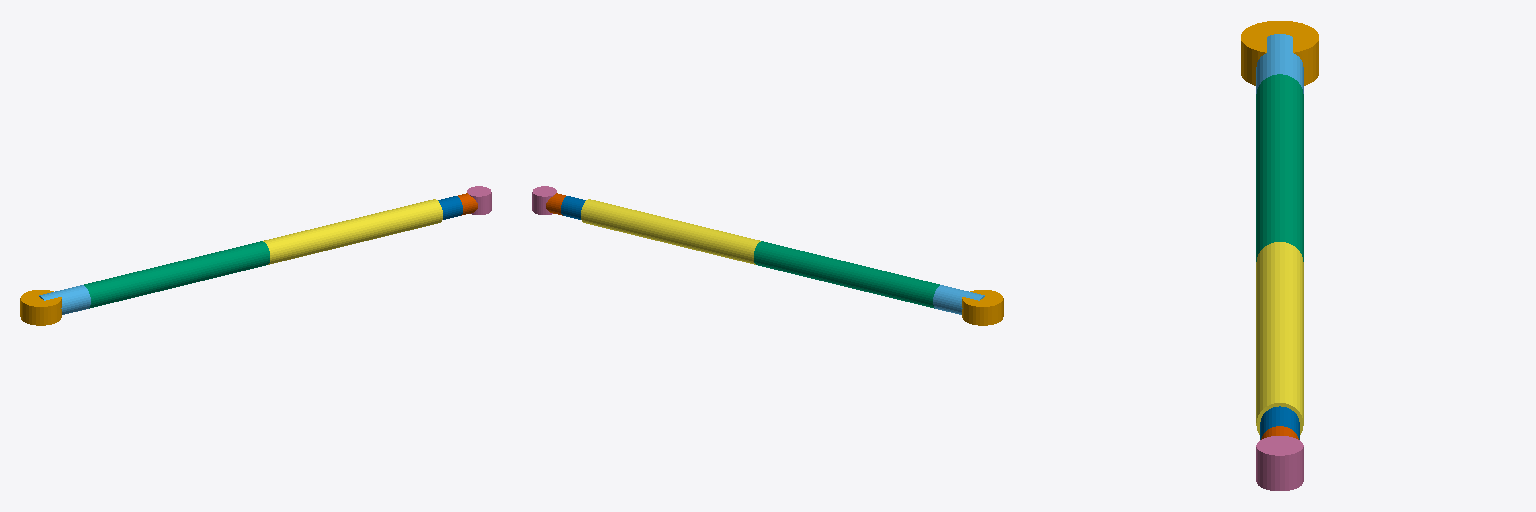
The robot description file, URDF, robot "simple_arm":
<?xml version="1.0"?>
<robot name="simple_arm">

  <!-- BASE Mount (Static) -->
  <link name="BASE">
    <visual>
      <origin xyz="0 0 0" rpy="0 0 0"/>
      <geometry>
        <cylinder length="0.05" radius="0.05"/>
      </geometry>
    </visual>
  </link>

  <!-- JOINT 0: YAW -->
  <joint name="rev_j0" type="revolute">
    <parent link="BASE"/>
    <child link="LOWER"/>
    <origin xyz="0 0 0" rpy="0 0 0"/>
    <axis xyz="0 0 1"/>
    <limit lower="-3.14" upper="3.14" effort="10" velocity="5"/>
  </joint>

  <!-- LINK 1 -->
  <link name="LOWER">
    <visual>
      <origin xyz="0.061 0 0" rpy="0 1.5708 0"/>
      <geometry>
        <cylinder length="0.122" radius="0.03"/>
      </geometry>
    </visual>
  </link>

  <!-- JOINT 1: PITCH -->
  <joint name="rev_j1" type="revolute">
    <parent link="LOWER"/>
    <child link="UPPER"/>
    <origin xyz="0.122 0 0" rpy="0 0 0"/>
    <axis xyz="0 1 0"/>
    <limit lower="-3.14" upper="3.14" effort="10" velocity="5"/>
  </joint>

  <!-- LINK 2 -->
  <link name="UPPER">
    <visual>
      <origin xyz="0.251 0 0" rpy="0 1.5708 0"/>
      <geometry>
        <cylinder length="0.502" radius="0.03"/>
      </geometry>
    </visual>
  </link>

  <!-- JOINT 2: PITCH -->
  <joint name="rev_j2" type="revolute">
    <parent link="UPPER"/>
    <child link="WR1"/>
    <origin xyz="0.502 0 0" rpy="0 0 0"/>
    <axis xyz="0 1 0"/>
    <limit lower="-3.14" upper="3.14" effort="10" velocity="5"/>
  </joint>

  <!-- LINK 3 -->
  <link name="WR1">
    <visual>
      <origin xyz="0.2415 0 0" rpy="0 1.5708 0"/>
      <geometry>
        <cylinder length="0.483" radius="0.03"/>
      </geometry>
    </visual>
  </link>

  <!-- JOINT 3: PITCH -->
  <joint name="rev_j3" type="revolute">
    <parent link="WR1"/>
    <child link="WR2"/>
    <origin xyz="0.483 0 0" rpy="0 0 0"/>
    <axis xyz="0 1 0"/>
    <limit lower="-3.14" upper="3.14" effort="10" velocity="5"/>
  </joint>

  <!-- LINK 4 -->
  <link name="WR2">
    <visual>
      <origin xyz="0.0295 0 0" rpy="0 1.5708 0"/>
      <geometry>
        <cylinder length="0.059" radius="0.025"/>
      </geometry>
    </visual>
  </link>

  <!-- JOINT 4: YAW -->
  <joint name="rev_j4" type="revolute">
    <parent link="WR2"/>
    <child link="WR3"/>
    <origin xyz="0.059 0 0" rpy="0 0 0"/>
    <axis xyz="0 0 1"/>
    <limit lower="-3.14" upper="3.14" effort="10" velocity="5"/>
  </joint>

  <!-- LINK 5 -->
  <link name="WR3">
    <visual>
      <origin xyz="0.0295 0 0" rpy="0 1.5708 0"/>
      <geometry>
        <cylinder length="0.059" radius="0.025"/>
      </geometry>
    </visual>
  </link>

  <!-- JOINT 5: ROLL -->
  <joint name="rev_j5" type="revolute">
    <parent link="WR3"/>
    <child link="WR4"/>
    <origin xyz="0.059 0 0" rpy="0 0 0"/>
    <axis xyz="1 0 0"/>
    <limit lower="-3.14" upper="3.14" effort="10" velocity="5"/>
  </joint>

  <!-- END EFFECTOR -->
  <link name="WR4">
    <visual>
      <origin xyz="0 0 0" rpy="0 0 0"/>
      <geometry>
        <cylinder length="0.05" radius="0.03"/>
      </geometry>
    </visual>
  </link>

</robot>

--- What the picture shows (computed from the rendered views, not written in the file) ---
3 views of the same robot in one strip: view 1: azimuth 30°, elevation 25°; view 2: azimuth 150°, elevation 25°; view 3: azimuth 270°, elevation 25° (orthographic).
Model simple_arm with 7 links and 6 joints (6 revolute), rooted at BASE, posed all joints at 0.
Visible links, largest first — view 1: UPPER, WR1, BASE, LOWER; view 2: UPPER, WR1, BASE, LOWER; view 3: UPPER, WR1, BASE, WR4, LOWER, WR2.
Boxes of the visible links, x1,y1,x2,y2 form: UPPER: (84, 241, 269, 308); WR1: (263, 199, 442, 264); BASE: (20, 290, 61, 325); LOWER: (39, 285, 90, 314); UPPER: (754, 241, 939, 308); WR1: (581, 199, 760, 264); BASE: (962, 290, 1003, 325); LOWER: (933, 285, 984, 314); UPPER: (1256, 74, 1303, 261); WR1: (1256, 242, 1303, 434); BASE: (1241, 21, 1318, 85); WR4: (1256, 436, 1303, 490); LOWER: (1256, 34, 1303, 93); WR2: (1260, 406, 1299, 439).
Size in the robot's own frame: 1.3 by 0.1 by 0.06 metres.
Geometry: primitives only (box / cylinder / sphere), no mesh files.
